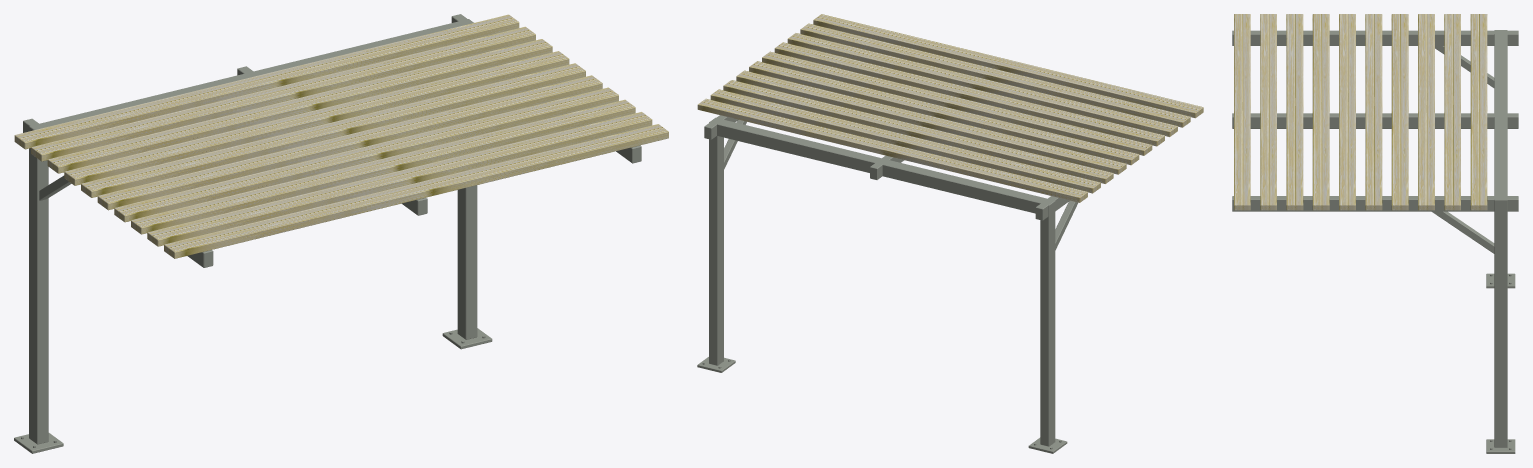
File: roof-shade.glb
3 renders of one model, left to right at view 1: azimuth 30°, elevation 25°; view 2: azimuth 150°, elevation 25°; view 3: azimuth 270°, elevation 25°, orthographic. The views are drawn at different scales.
Visible parts, largest first — view 1: RoofShade; view 2: RoofShade; view 3: RoofShade.
Boxes of the visible parts, <box> form: RoofShade: <box>14,14,668,453</box>; RoofShade: <box>697,14,1203,453</box>; RoofShade: <box>1232,14,1518,453</box>.
Size of the model in its own units: 4.04 by 2.52 by 2.56.
2 materials, 1 textured.
